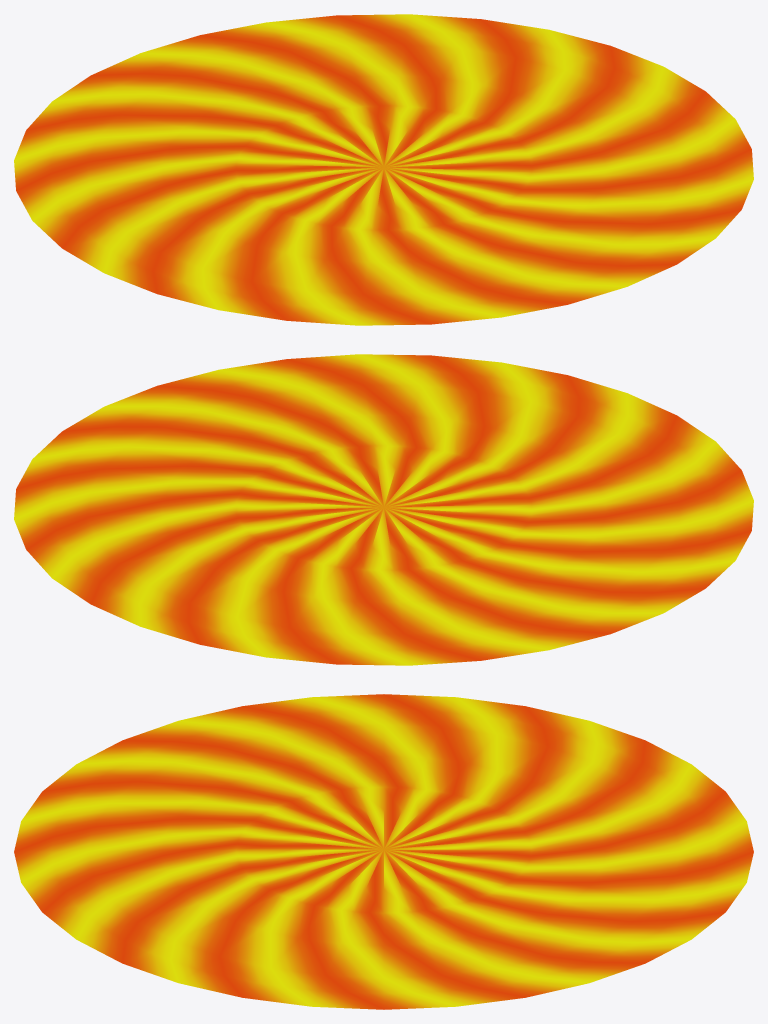
Rendered from portalSuelo.obj.
The picture shows the model from 3 angles, top to bottom: view 1: azimuth 30°, elevation 25°; view 2: azimuth 150°, elevation 25°; view 3: azimuth 270°, elevation 25°; orthographic projection.
Parts seen in each view (by area): view 1: EffFrogPortal:Back; view 2: EffFrogPortal:Back; view 3: EffFrogPortal:Back.
Part boxes in pixels (bbox=[...]): EffFrogPortal:Back: bbox=[14, 14, 753, 325]; EffFrogPortal:Back: bbox=[14, 354, 753, 665]; EffFrogPortal:Back: bbox=[14, 694, 753, 1009].
Size of the model in its own units: 1.97 by 0.00733 by 1.95.
1 material, 1 textured.
